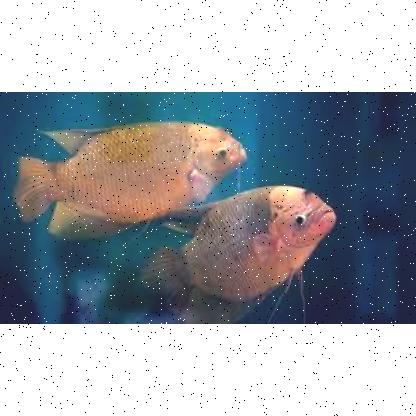gurame: (152, 184, 338, 314), (19, 122, 242, 219)
